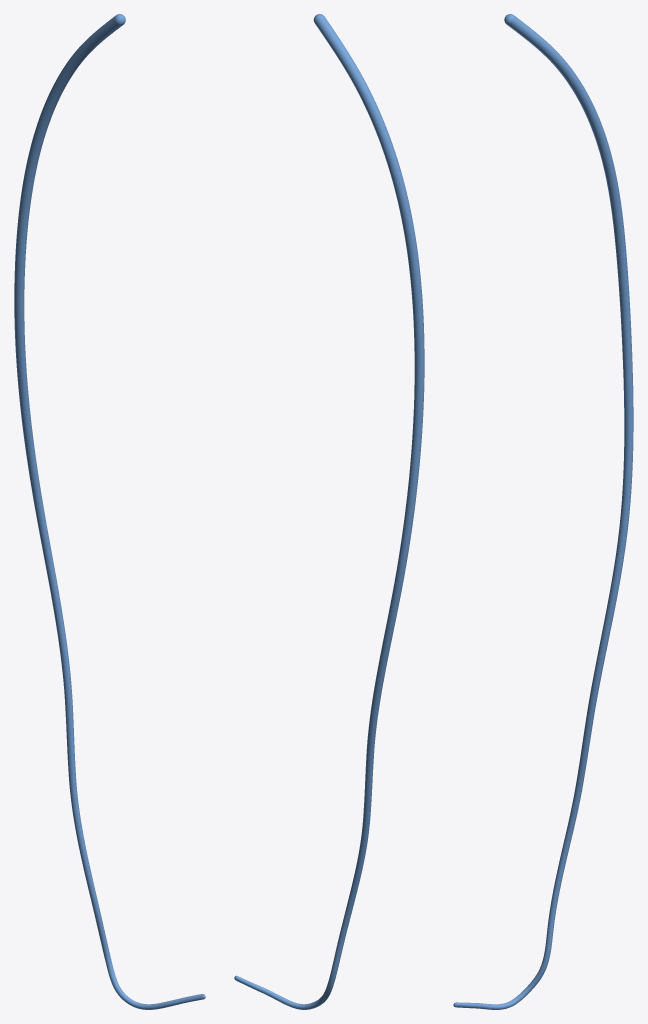
3 renders of one model, left to right at view 1: azimuth 30°, elevation 25°; view 2: azimuth 210°, elevation 25°; view 3: azimuth 270°, elevation 25°, orthographic.
Visible parts, largest first — view 1: BP5853_left_small_saphenous_vein; view 2: BP5853_left_small_saphenous_vein; view 3: BP5853_left_small_saphenous_vein.
Boxes of the visible parts, x1,y1,x2,y2 form: BP5853_left_small_saphenous_vein: [14, 14, 205, 1009]; BP5853_left_small_saphenous_vein: [234, 14, 424, 1009]; BP5853_left_small_saphenous_vein: [453, 14, 633, 1009].
Bounding box in the file's own units: 0.0501 × 0.4544 × 0.0753.
